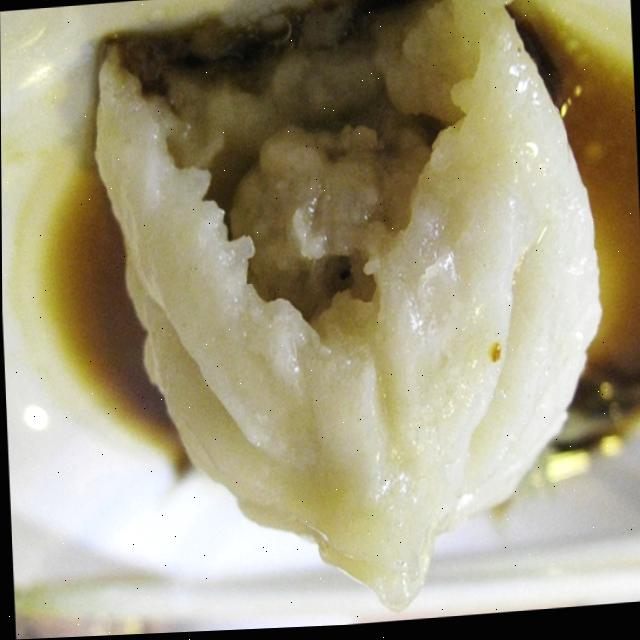带馅早点: (13, 0, 640, 634)
